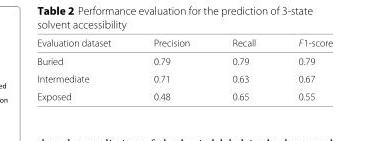table: (36, 36, 332, 101)
table column: (36, 36, 131, 101), (131, 36, 210, 101), (210, 36, 276, 101), (276, 36, 332, 101)
table column header: (36, 36, 332, 51)
table row: (36, 51, 332, 69), (36, 69, 332, 87), (36, 36, 332, 51), (36, 87, 332, 101)
